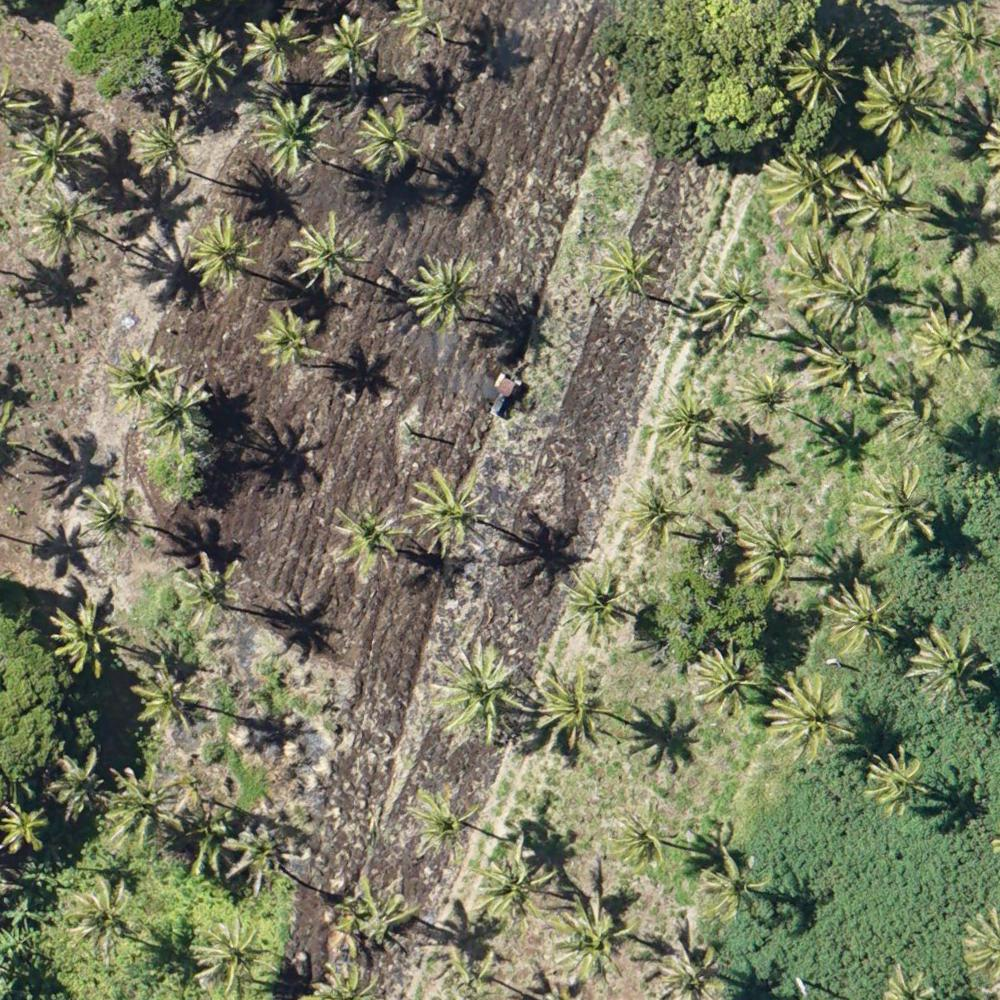Palm: (435, 642, 520, 744), (766, 672, 853, 759), (856, 468, 945, 551), (103, 766, 184, 850), (865, 57, 939, 147), (475, 838, 557, 918), (725, 514, 809, 592), (409, 469, 493, 547), (617, 480, 696, 562), (818, 254, 896, 336), (17, 111, 102, 186), (841, 158, 921, 236), (554, 897, 631, 977), (257, 97, 337, 174), (908, 628, 989, 704), (763, 154, 849, 225), (290, 214, 370, 290), (820, 580, 901, 655), (23, 188, 107, 260), (558, 566, 634, 645), (696, 266, 772, 344), (69, 875, 137, 961), (688, 643, 767, 716), (651, 383, 723, 463), (780, 29, 851, 110), (537, 671, 611, 748), (334, 873, 412, 946), (407, 255, 486, 327), (331, 500, 407, 574), (405, 788, 485, 857), (914, 304, 990, 376), (49, 602, 121, 678), (778, 233, 849, 308), (179, 551, 247, 628), (195, 924, 269, 994), (191, 217, 256, 295), (126, 111, 196, 183), (598, 235, 667, 307), (702, 850, 770, 922), (130, 671, 203, 738), (145, 376, 214, 446), (241, 12, 312, 80), (352, 106, 417, 178), (254, 306, 323, 373), (170, 27, 235, 96), (650, 941, 724, 1000), (931, 4, 996, 71), (104, 349, 174, 410), (611, 807, 674, 874), (864, 752, 931, 814), (317, 12, 378, 80), (80, 481, 142, 545), (226, 827, 288, 890), (735, 368, 796, 429), (51, 750, 107, 816), (888, 396, 945, 454), (1, 800, 48, 855)
